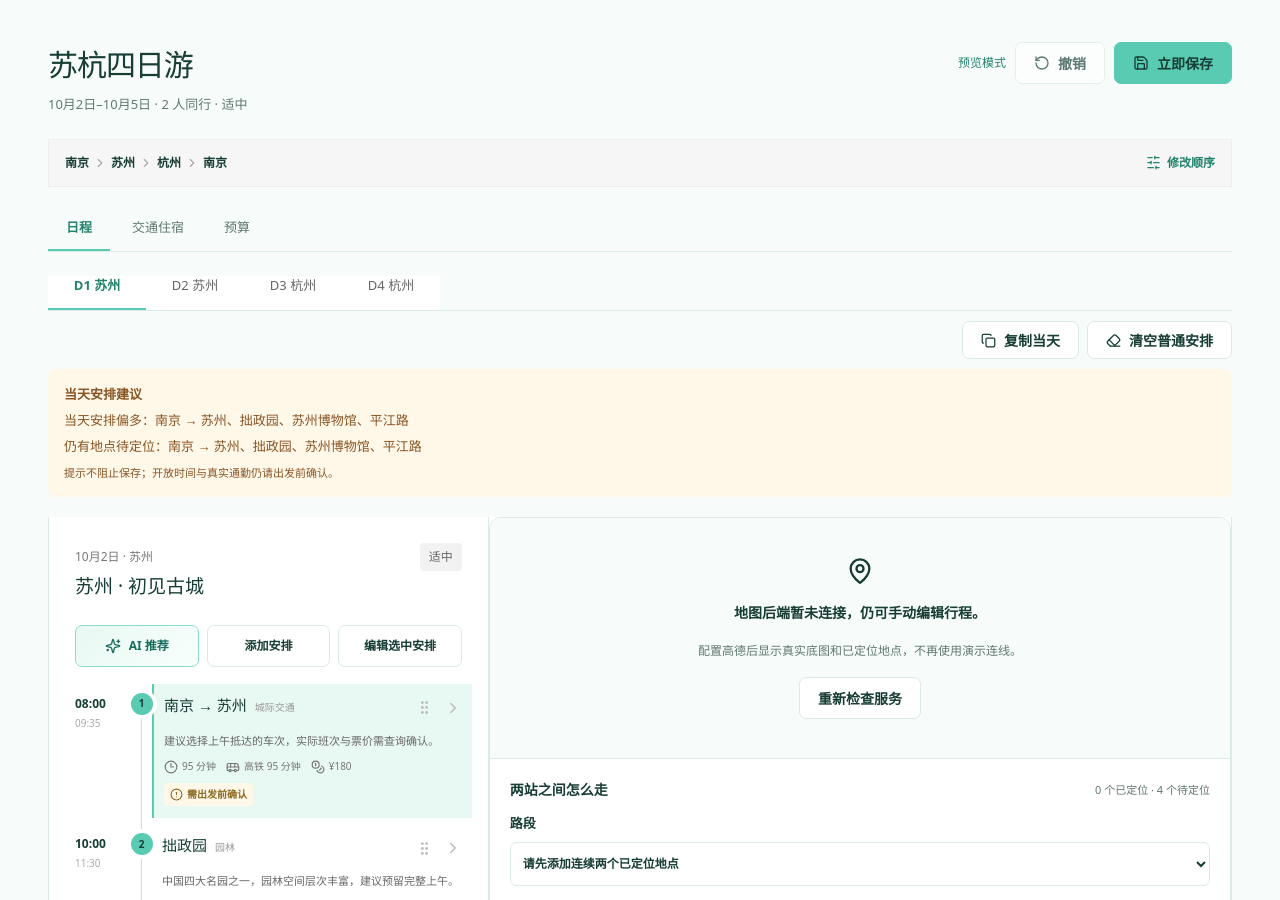
Test: 切换日期后展示对应城市安排
Click the tab "D3 杭州" at (293, 293), box [244,276,342,310]
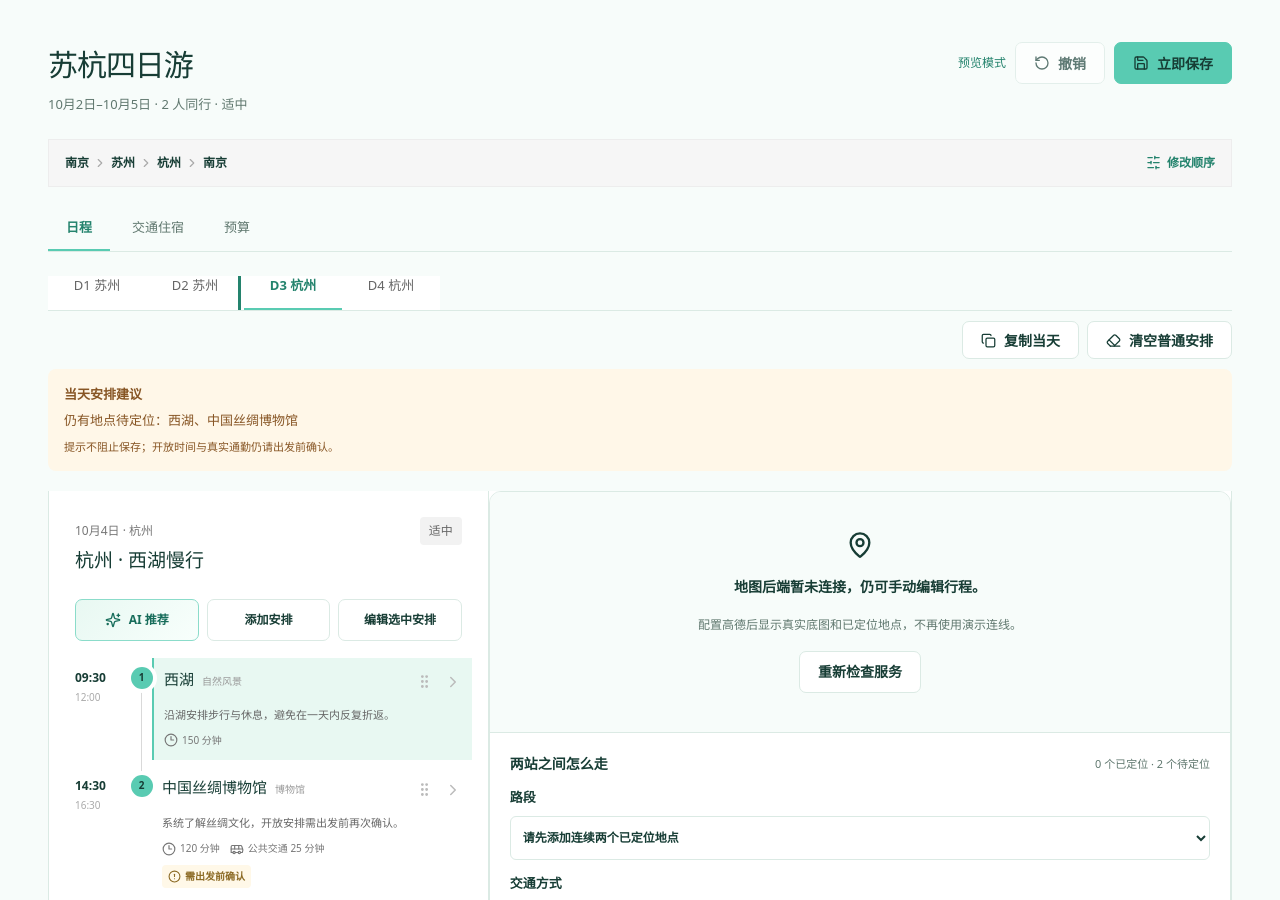
expect the heading "西湖" is shown: met, box [164,669,194,689]
expect the text "拙政园" is gone: met
